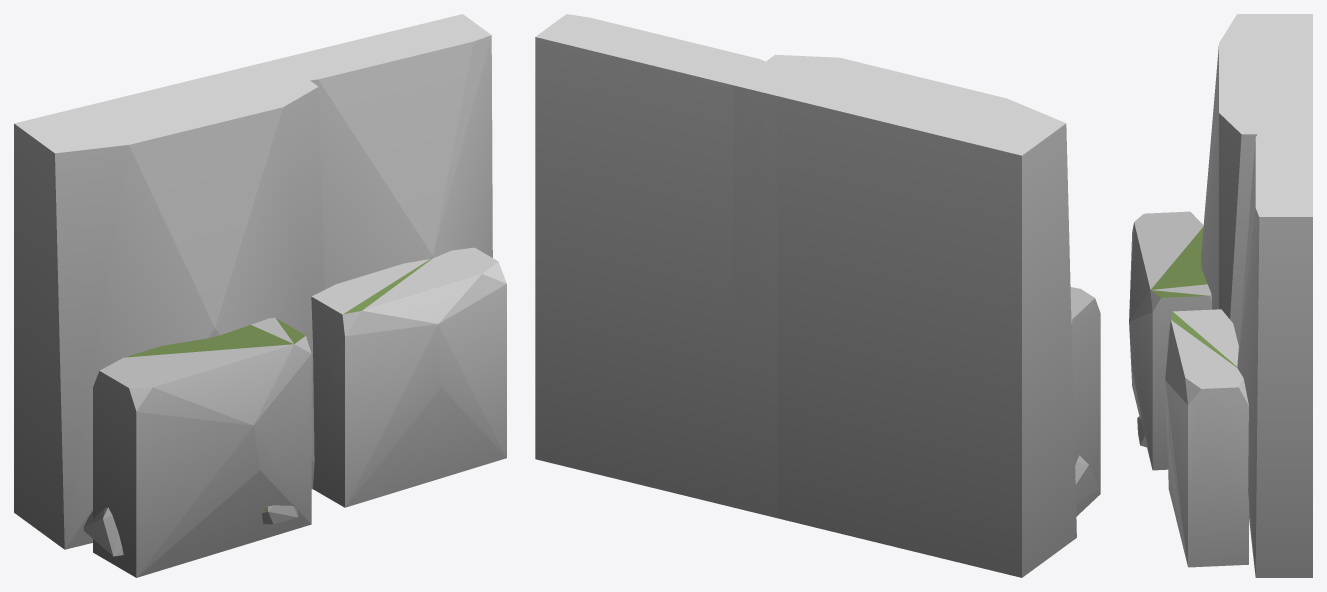
3 views of the same model, side by side, from view 1: azimuth 30°, elevation 25°; view 2: azimuth 150°, elevation 25°; view 3: azimuth 270°, elevation 25° (orthographic). The views are drawn at different scales.
Visible parts, largest first — view 1: rk_cf3_1; view 2: rk_cf3_1; view 3: rk_cf3_1.
Boxes of the visible parts, x1,y1,x2,y2 form: rk_cf3_1: [14, 14, 506, 577]; rk_cf3_1: [535, 14, 1100, 577]; rk_cf3_1: [1129, 14, 1312, 577].
Bounding box in the file's own units: 34.39 × 28.5 × 13.16.
